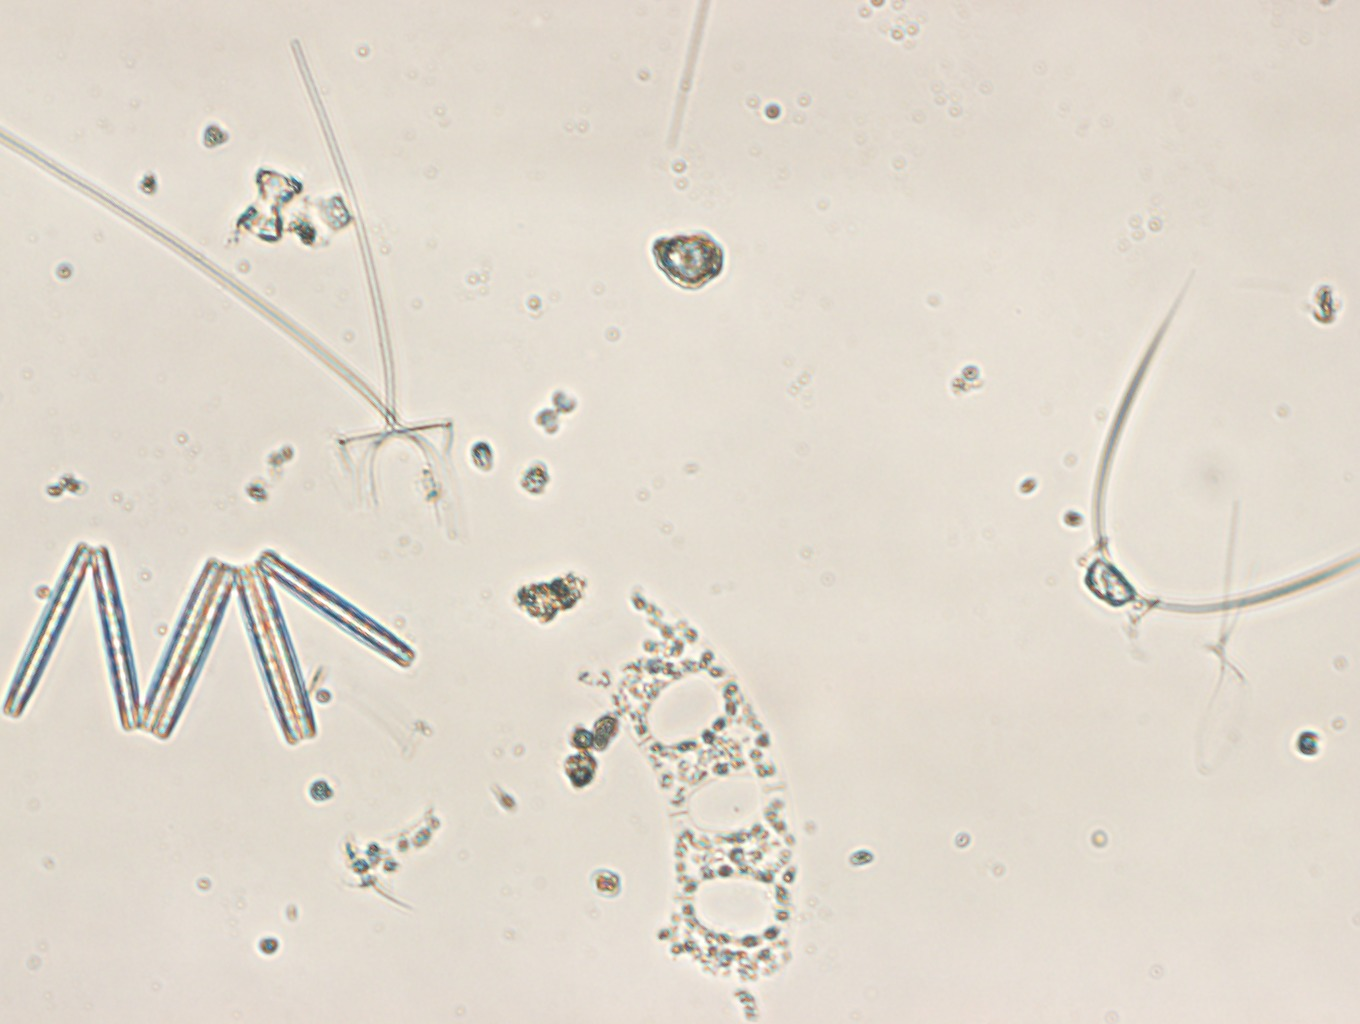chaetoceros: (1, 41, 453, 526), (1080, 270, 1360, 623)
eucampia: (586, 599, 794, 989)
thalassionema nitzschioides: (3, 545, 415, 745)
